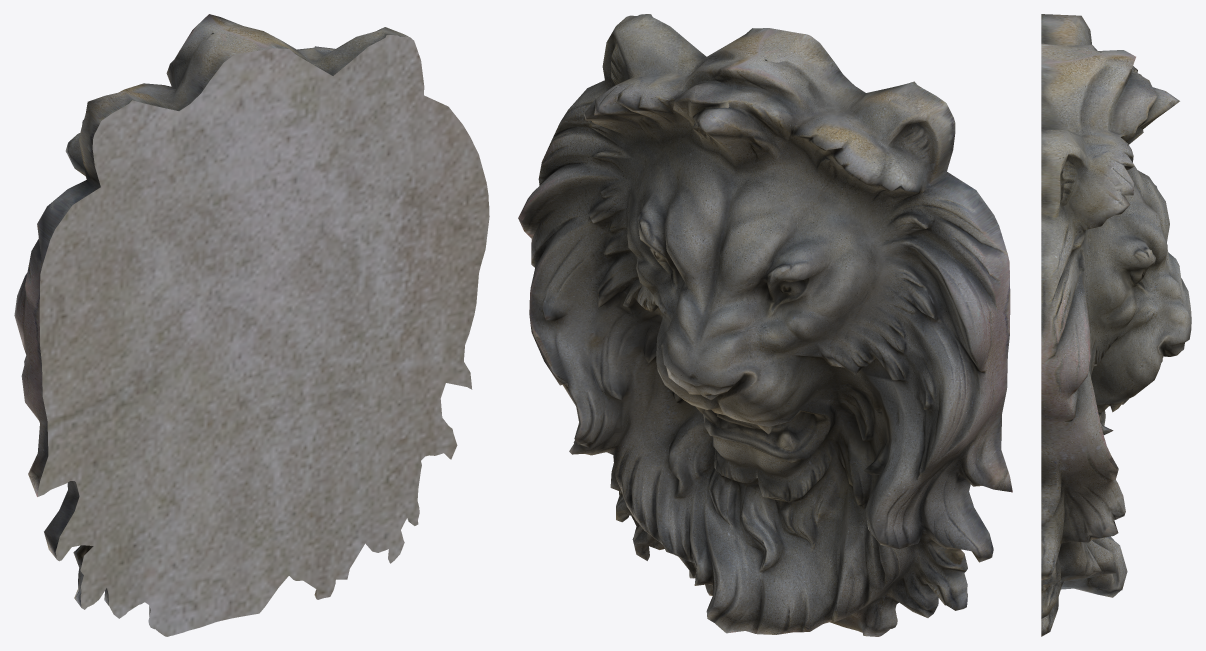
The model's file is SM_Relief_02_01.fbx.
3 renders of one model, left to right at view 1: azimuth 30°, elevation 25°; view 2: azimuth 150°, elevation 25°; view 3: azimuth 270°, elevation 25°, orthographic. The views are drawn at different scales.
Visible parts, largest first — view 1: sm_Relief_02_01_LOD0; view 2: sm_Relief_02_01_LOD0; view 3: sm_Relief_02_01_LOD0.
Part boxes in pixels (x1=…): sm_Relief_02_01_LOD0: x1=14, y1=14, x2=489, y2=636; sm_Relief_02_01_LOD0: x1=518, y1=14, x2=1012, y2=636; sm_Relief_02_01_LOD0: x1=1041, y1=14, x2=1191, y2=636.
Bounding box in the file's own units: 29.21 × 97.01 × 115.
